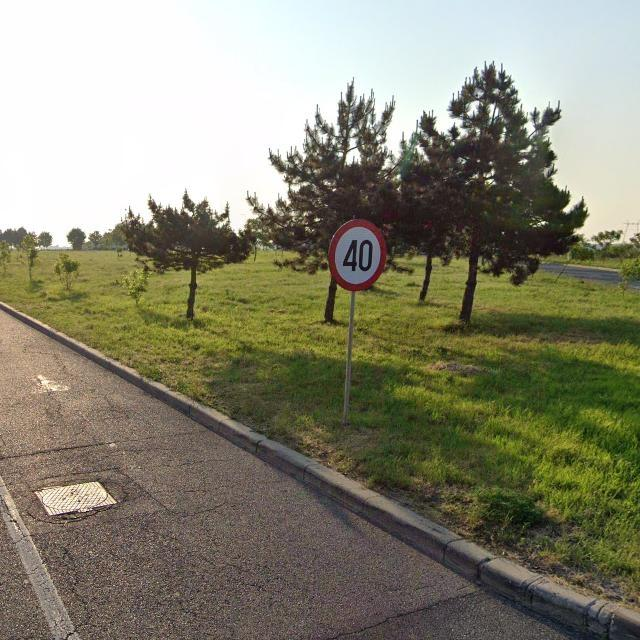forb_speed_over_40: (327, 218, 387, 292)
